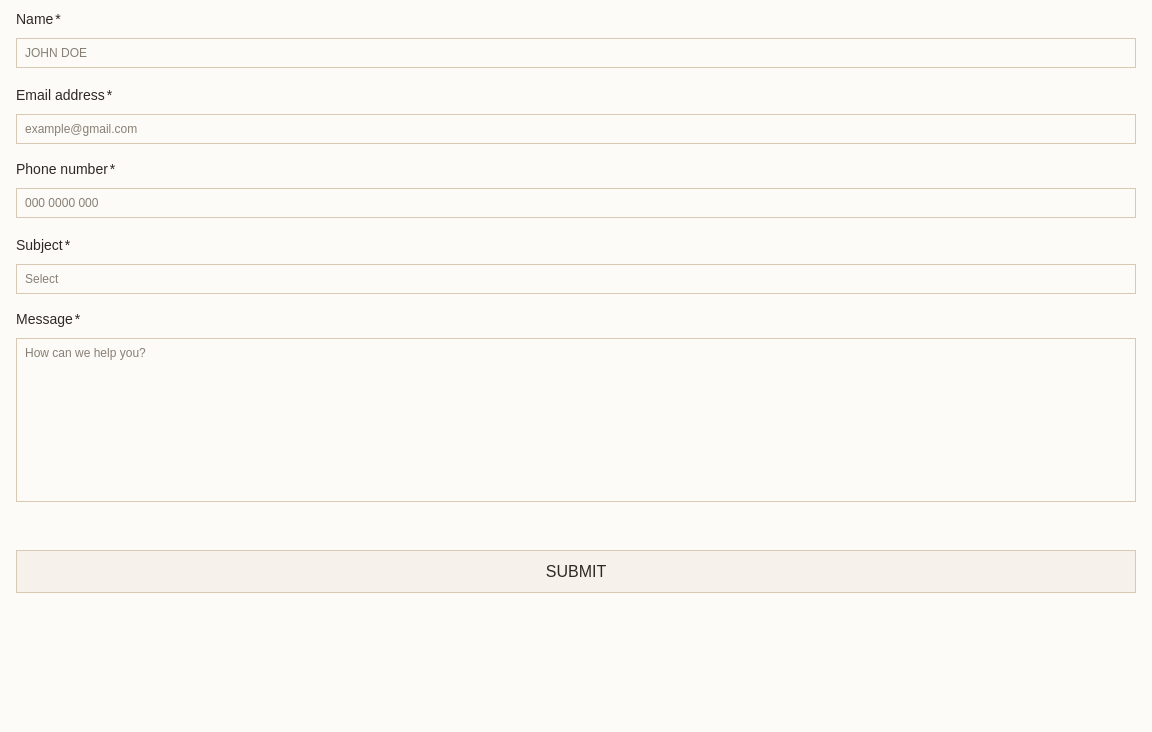
Test: GetInTouchForm › validates required fields and focuses the first invalid field
Click the button "SUBMIT" at (576, 572), box [16,550,1136,593]
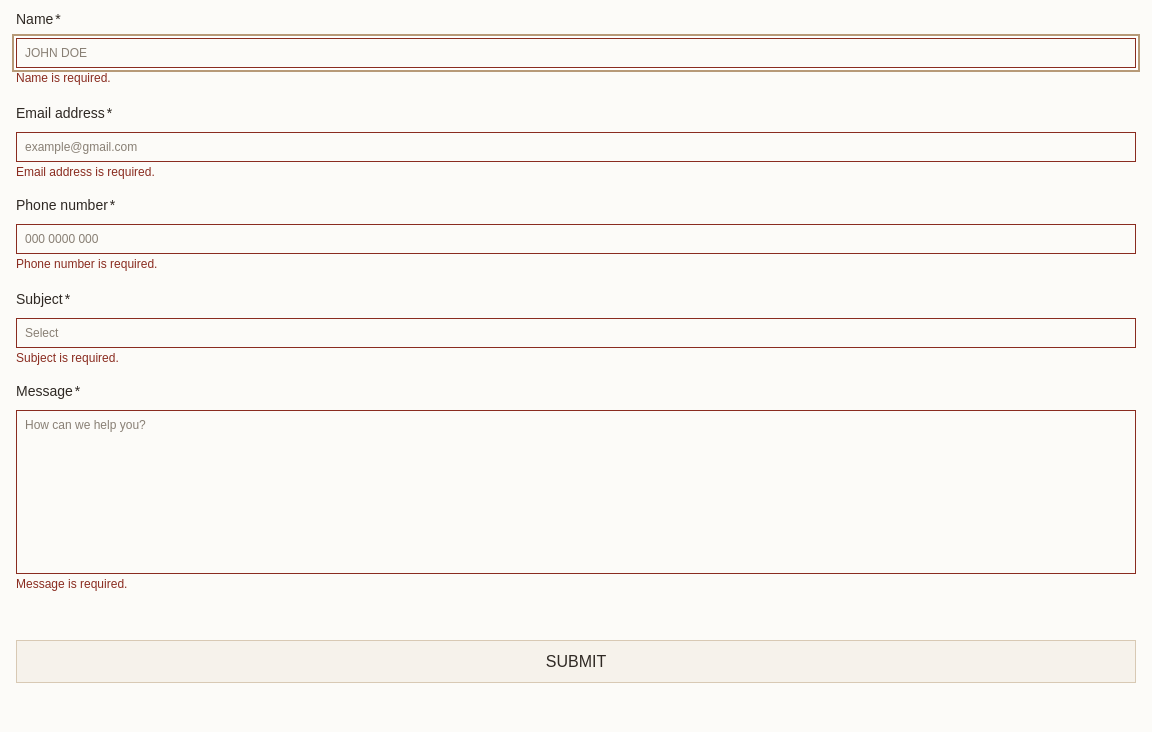
Now the text "Name is required." is shown, box [16,71,111,85]
Now the text "Phone number is required." is shown, box [16,257,157,271]
